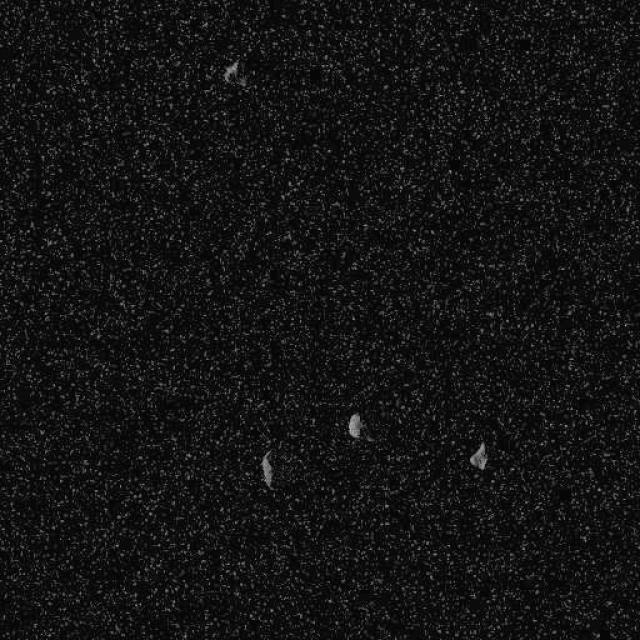D2: (260, 449, 275, 490), (468, 440, 488, 470), (221, 57, 241, 85), (346, 411, 364, 439)
